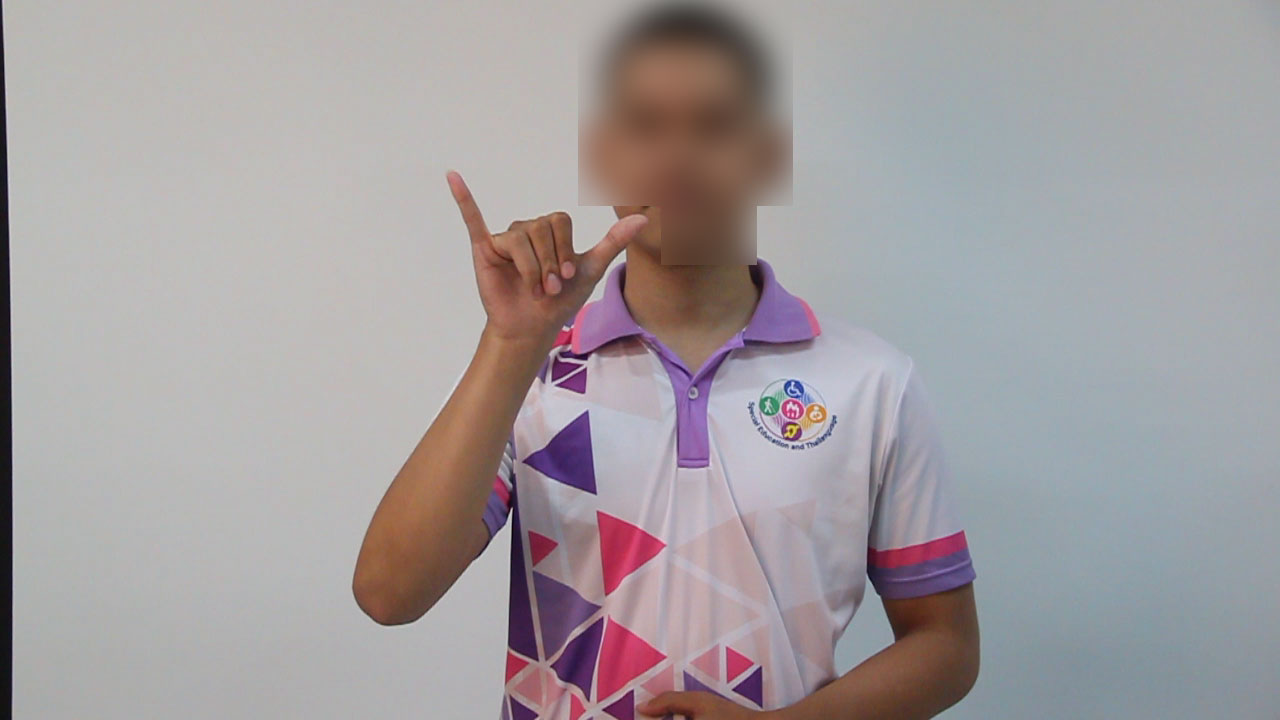yor: (433, 163, 656, 358)
